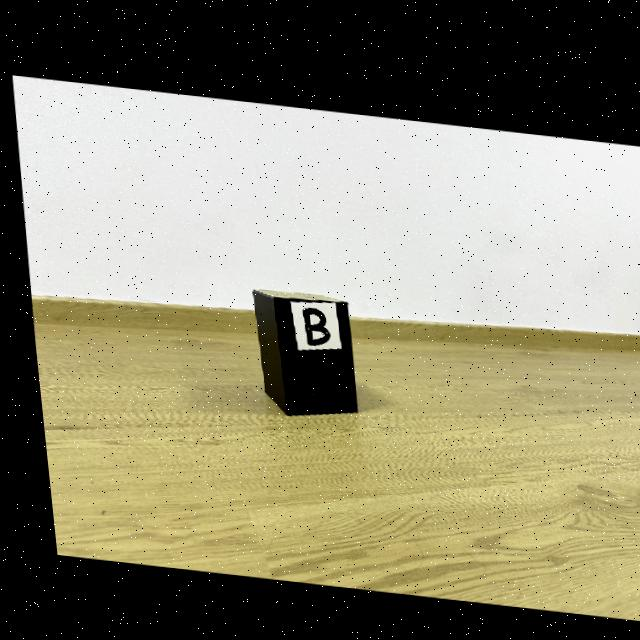B: (296, 302, 323, 340)
